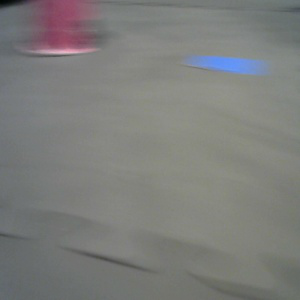middle: (13, 1, 101, 55)
